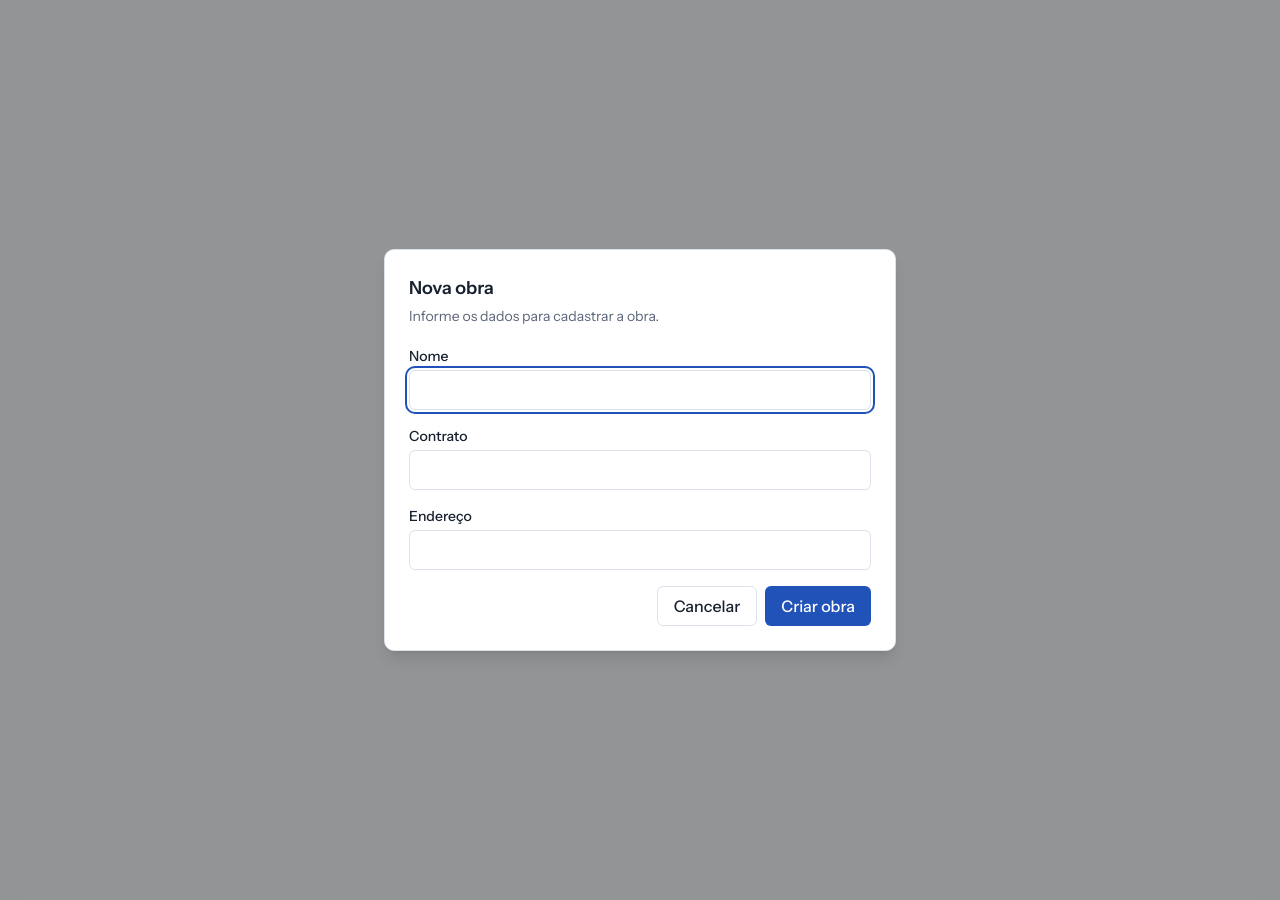
Test case: ConstructionSiteForm › validates required fields before creating
Click the button "Criar obra" at x=818, y=606, box [765,586,871,626]
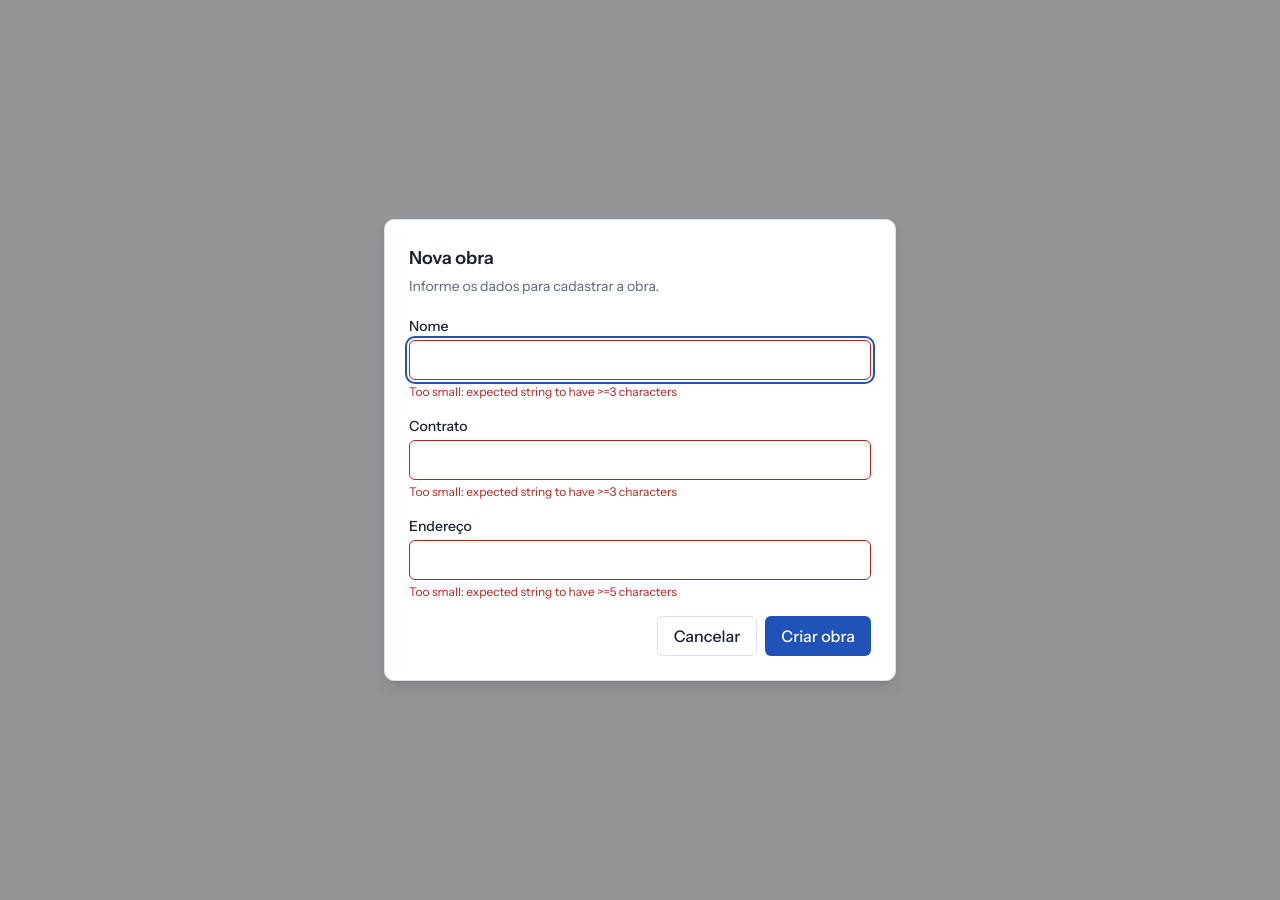
Expected: the number of messages is 3, [409,384,677,399]; [409,484,677,499]; [409,584,677,599]
